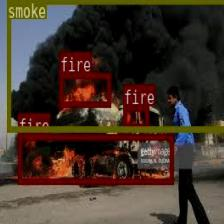fire: (17, 134, 173, 183), (58, 72, 110, 106), (123, 104, 148, 129)
smoke: (6, 0, 224, 130)
